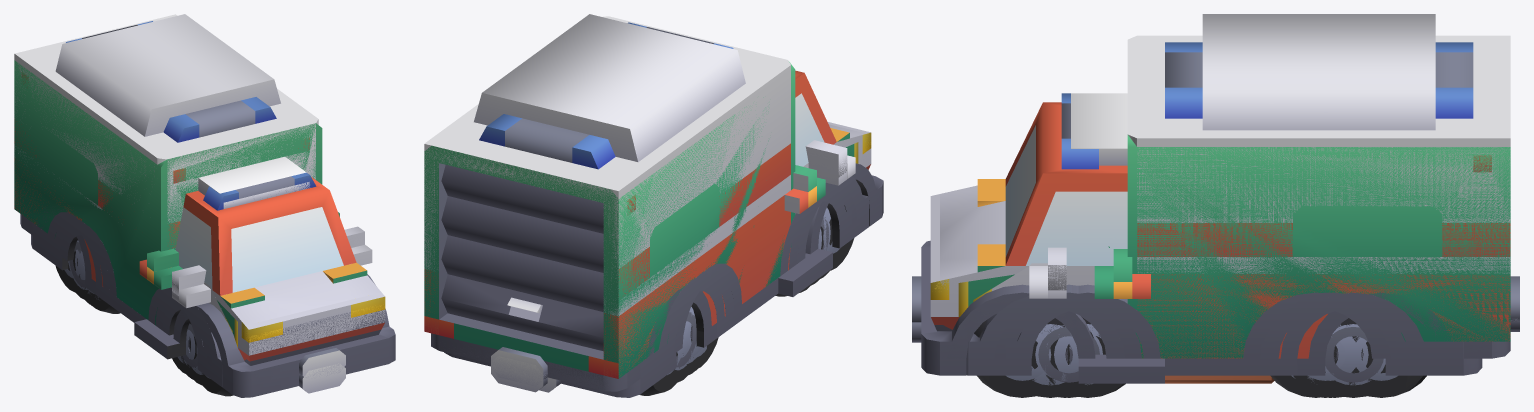
Rendered from cars.glb.
3 renders of one model, left to right at view 1: azimuth 30°, elevation 25°; view 2: azimuth 150°, elevation 25°; view 3: azimuth 270°, elevation 25°, orthographic. The views are drawn at different scales.
Visible parts, largest first — view 1: body (×7), wheel-front-right (×2); view 2: body (×6), door, wheel-back-right, wheel-front-right; view 3: body (×7), wheel-front-left (×5), wheel-back-left (×5), box.
Part boxes in pixels (x1=…): body (×7): x1=14, y1=14, x2=395, y2=397; wheel-front-right (×2): x1=172, y1=322, x2=211, y2=385; body (×6): x1=424, y1=14, x2=883, y2=397; door: x1=441, y1=165, x2=603, y2=351; wheel-back-right: x1=640, y1=325, x2=692, y2=395; wheel-front-right: x1=823, y1=213, x2=854, y2=270; body (×7): x1=912, y1=14, x2=1519, y2=383; wheel-front-left (×5): x1=974, y1=317, x2=1125, y2=397; wheel-back-left (×5): x1=1270, y1=318, x2=1426, y2=397; box: x1=1165, y1=375, x2=1274, y2=383.
Bounding box in the file's own units: 1.5 × 1.8 × 3.25.
Materials: 1 (1 with a texture image).
